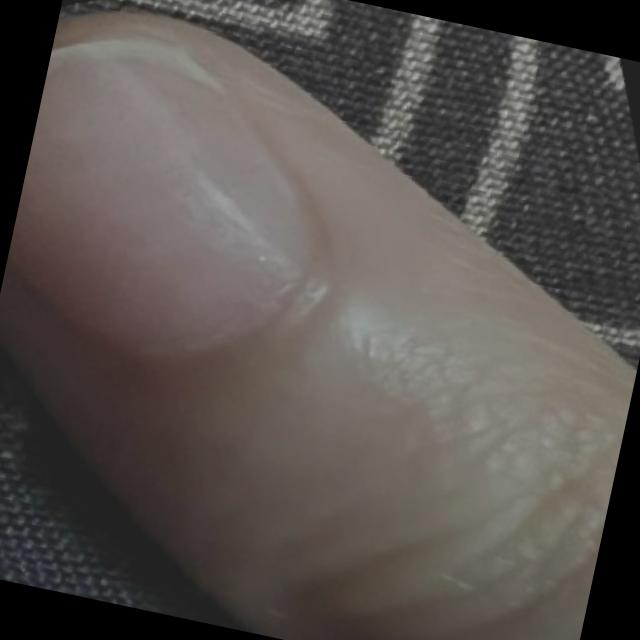Nail: (10, 43, 312, 366)
